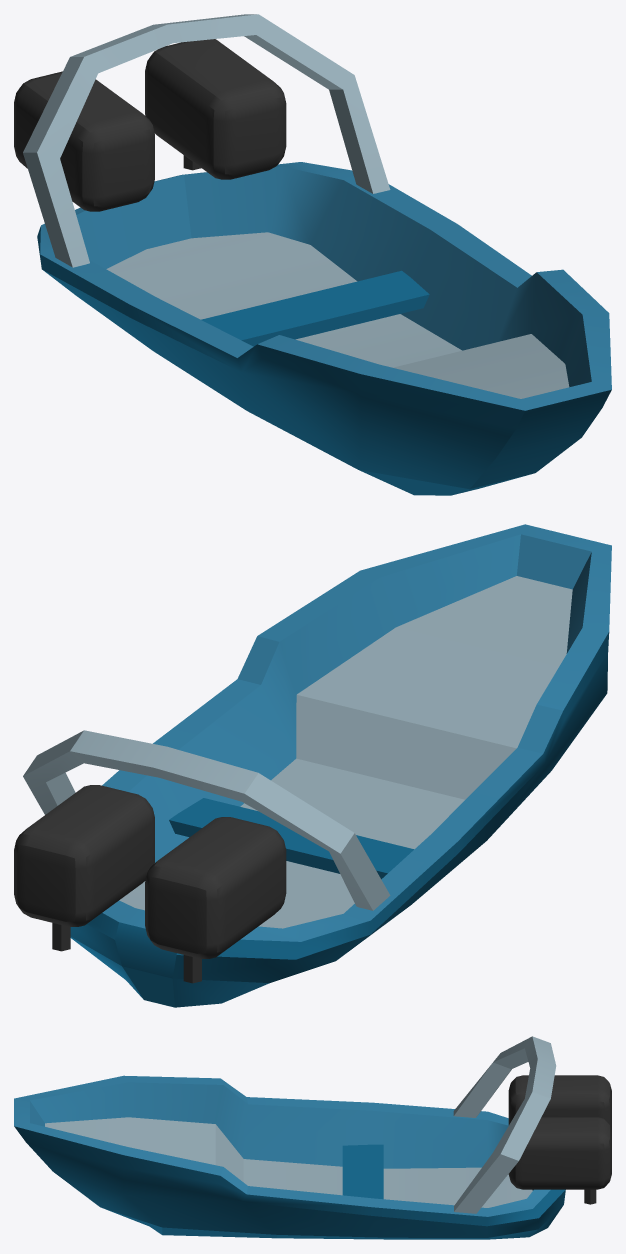
The model's file is boat3.fbx.
3 renders of one model, top to bottom at view 1: azimuth 30°, elevation 25°; view 2: azimuth 150°, elevation 25°; view 3: azimuth 270°, elevation 25°, orthographic. The views are drawn at different scales.
Parts seen in each view (by area): view 1: boat3; view 2: boat3; view 3: boat3.
Boxes of the visible parts, box(x1,y1,x2,y2) form: boat3: box(14, 14, 611, 495); boat3: box(14, 524, 611, 1007); boat3: box(14, 1036, 611, 1239).
Bounding box in the file's own units: 109 × 78.88 × 260.
